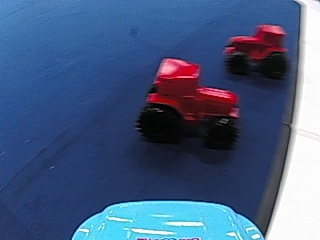tractor: (138, 52, 245, 149), (222, 22, 290, 78)
